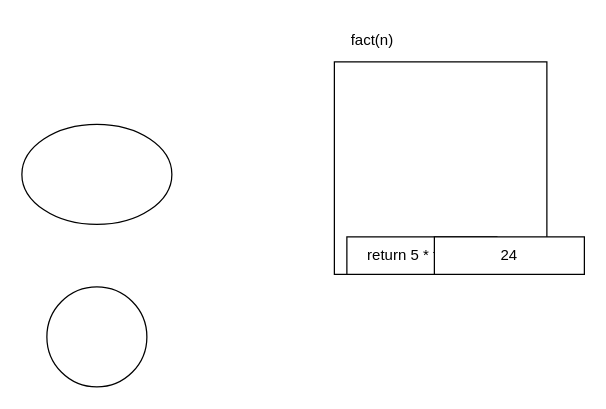
This 606x409 diagram has some shape labels left out. Each missing label, with the centre of its shape:
ans = 120: pixel 96 173
fact(5): pixel 96 336
